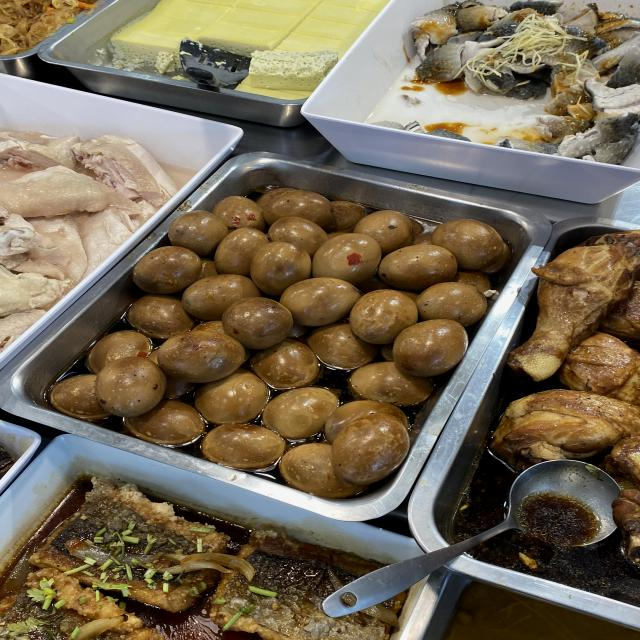braised egg: (153, 255, 420, 432)
